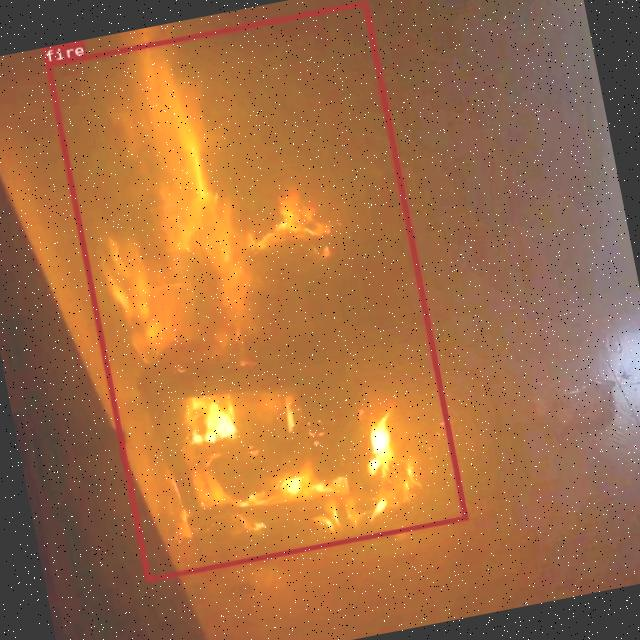fire: (44, 0, 466, 581)
